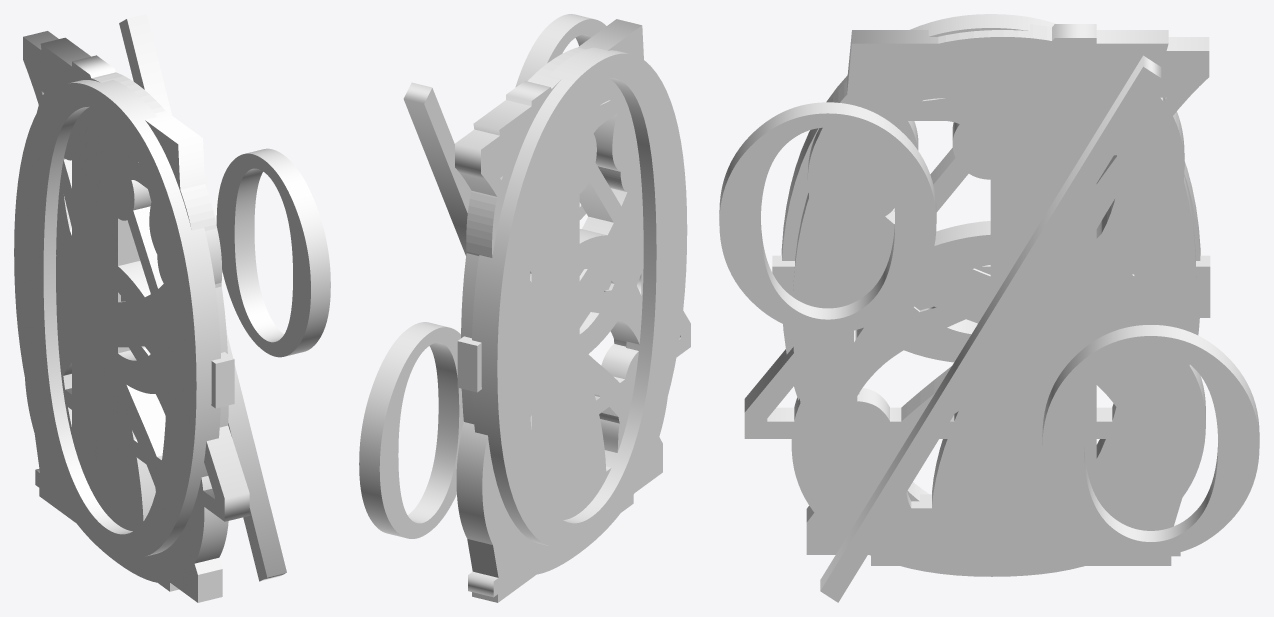
The model's file is Number.obj.
The picture shows the model from 3 angles, left to right: view 1: azimuth 30°, elevation 25°; view 2: azimuth 150°, elevation 25°; view 3: azimuth 270°, elevation 25°; orthographic projection. The views are drawn at different scales.
Visible parts, largest first — view 1: 0, ％, 4, 1, 8, 2, 5, 7, 9, 6, ：, － (+1 smaller); view 2: 0, ％, 4, 1, 2, 8, 5, 3, 7, 9, 6, ： (+1 smaller); view 3: ％, 9, 8, 5, 6, 2, 4, 1, 7, 3, 0, ： (+1 smaller).
Part boxes in pixels (bbox=[...]): 0: bbox=[14, 80, 220, 557]; ％: bbox=[119, 14, 330, 581]; 4: bbox=[35, 55, 249, 521]; 1: bbox=[39, 110, 178, 591]; 8: bbox=[36, 107, 228, 582]; 2: bbox=[31, 72, 222, 602]; 5: bbox=[40, 37, 204, 568]; 7: bbox=[23, 31, 178, 563]; 9: bbox=[56, 107, 221, 571]; 6: bbox=[54, 78, 228, 564]; ：: bbox=[101, 154, 151, 480]; －: bbox=[121, 296, 234, 408]; 0: bbox=[472, 47, 687, 547]; ％: bbox=[359, 14, 606, 538]; 4: bbox=[468, 81, 690, 597]; 1: bbox=[472, 95, 633, 602]; 2: bbox=[466, 47, 662, 577]; 8: bbox=[490, 85, 667, 574]; 5: bbox=[473, 19, 643, 553]; 3: bbox=[456, 78, 638, 566]; 7: bbox=[455, 86, 627, 541]; 9: bbox=[461, 78, 643, 519]; 6: bbox=[495, 78, 643, 558]; ：: bbox=[562, 128, 596, 466]; ％: bbox=[719, 55, 1259, 602]; 9: bbox=[808, 42, 1196, 560]; 8: bbox=[791, 58, 1188, 576]; 5: bbox=[804, 30, 1191, 561]; 6: bbox=[792, 47, 1179, 565]; 2: bbox=[806, 24, 1203, 554]; 4: bbox=[744, 24, 1181, 556]; 1: bbox=[871, 48, 1171, 565]; 7: bbox=[835, 37, 1209, 568]; 3: bbox=[818, 47, 1205, 564]; 0: bbox=[781, 14, 1200, 501]; ：: bbox=[952, 109, 1029, 478].
Size of the model in its own units: 0.1734 by 0.7363 by 0.6557.
1 material, 1 textured.
